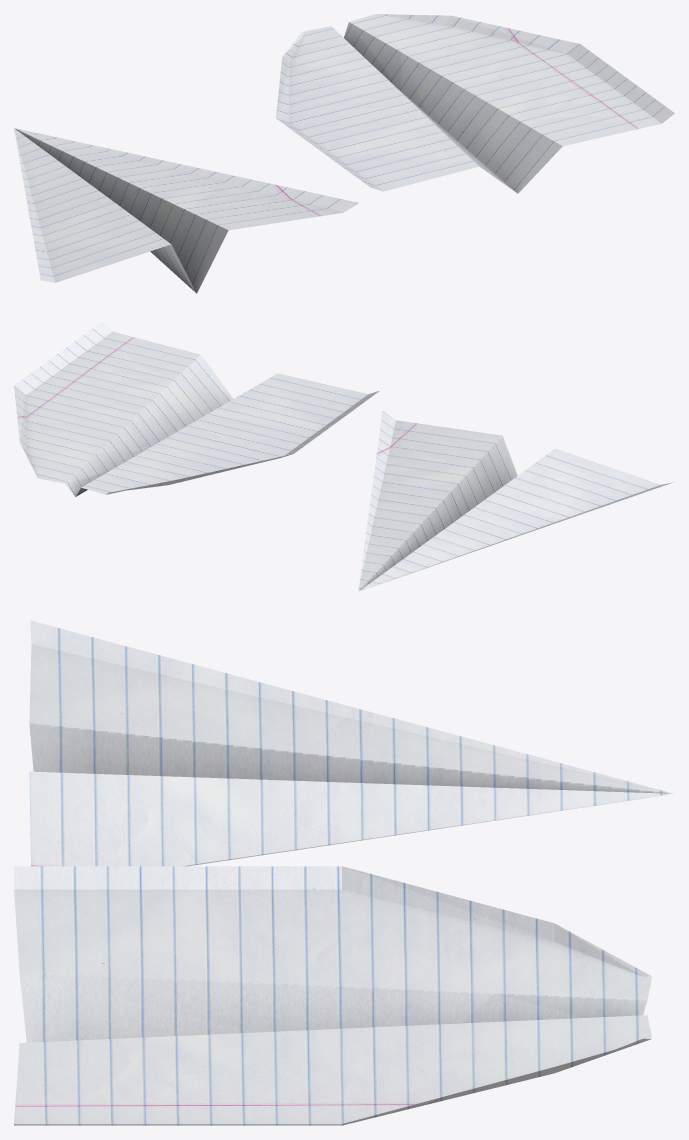
File: Airplanes_Paper.fbx
3 renders of one model, top to bottom at view 1: azimuth 30°, elevation 25°; view 2: azimuth 150°, elevation 25°; view 3: azimuth 270°, elevation 25°, orthographic. The views are drawn at different scales.
Visible parts, largest first — view 1: Airplane_2, Airplane_1; view 2: Airplane_2, Airplane_1; view 3: Airplane_2, Airplane_1.
Part boxes in pixels (left/top/right/bottom): Airplane_2: left=276, top=14, right=674, bottom=193; Airplane_1: left=14, top=128, right=358, bottom=293; Airplane_2: left=14, top=322, right=379, bottom=496; Airplane_1: left=358, top=411, right=673, bottom=591; Airplane_2: left=14, top=866, right=651, bottom=1125; Airplane_1: left=29, top=620, right=674, bottom=866.
Bounding box in the file's own units: 396 × 42.87 × 207.
